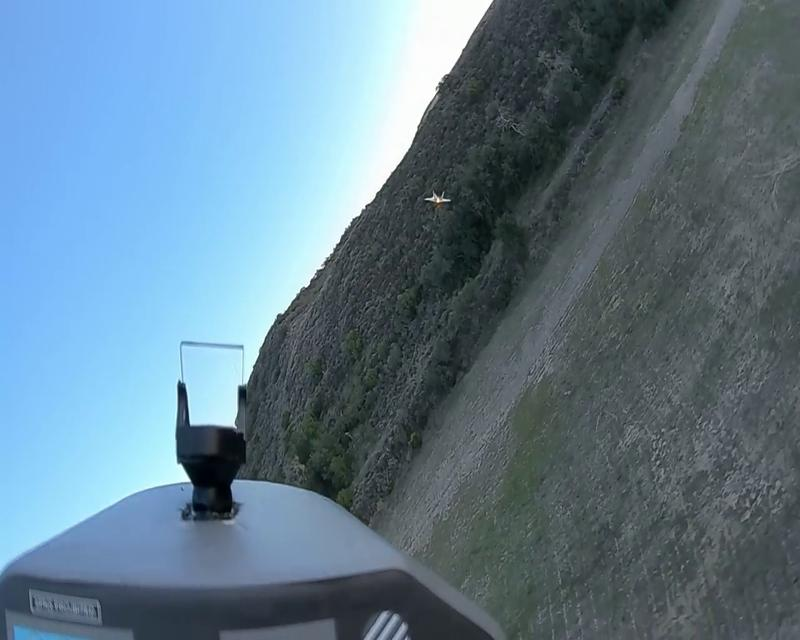UAV: (424, 189, 451, 206)
